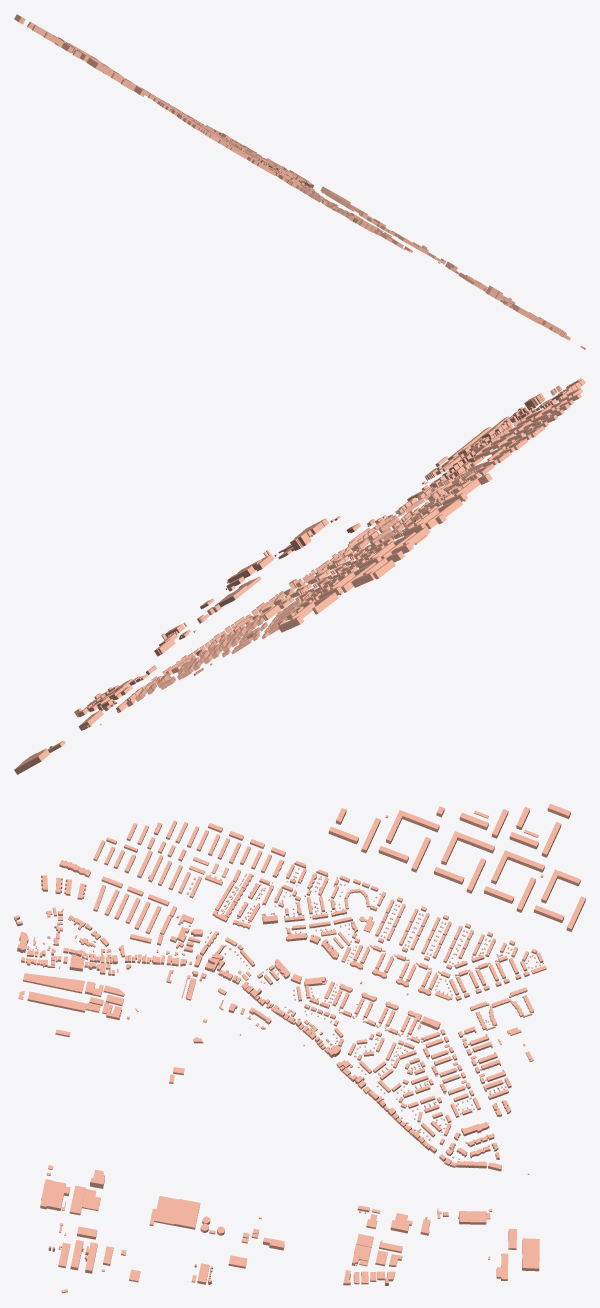
3 views of the same model, one above another, from view 1: azimuth 30°, elevation 25°; view 2: azimuth 150°, elevation 25°; view 3: azimuth 270°, elevation 25° (orthographic). The views are drawn at different scales.
Bounding box in the file's own units: 969 × 695 × 1197.
